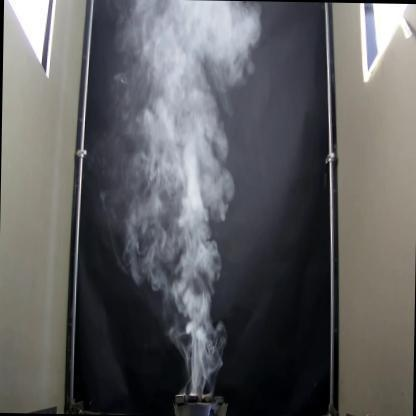smoke: (119, 0, 263, 390)
